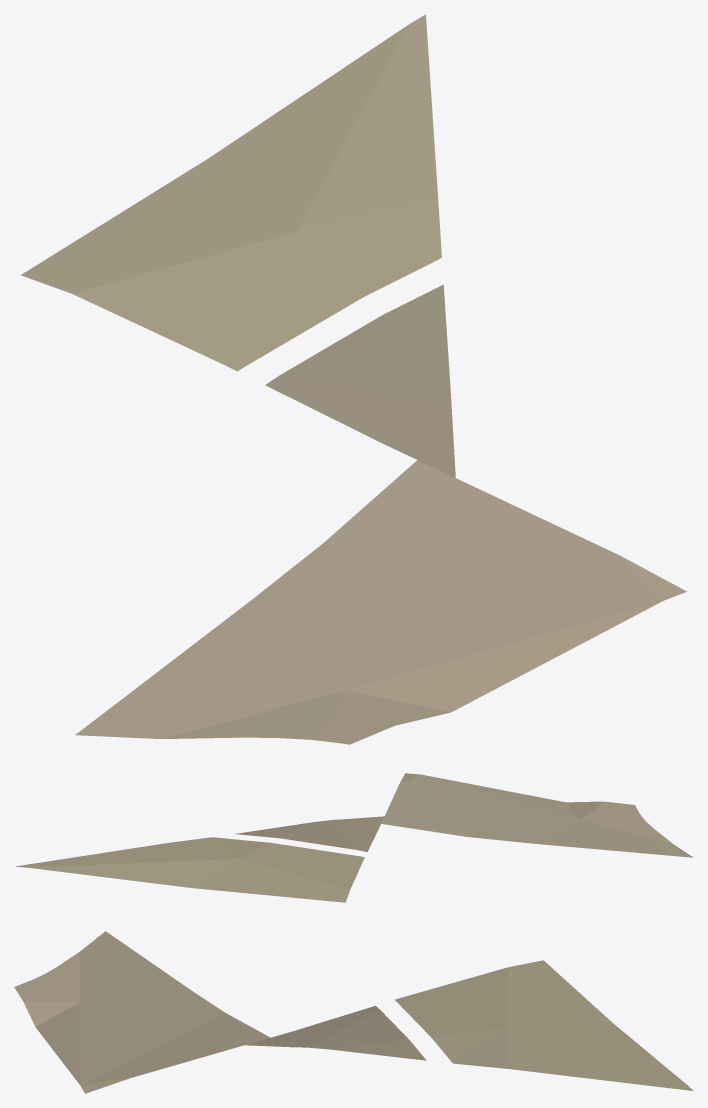
File: farm_12_24_soil.glb
3 renders of one model, top to bottom at view 1: azimuth 30°, elevation 25°; view 2: azimuth 150°, elevation 25°; view 3: azimuth 270°, elevation 25°, orthographic. The views are drawn at different scales.
Parts seen in each view (by area): view 1: geometry_0; view 2: geometry_0; view 3: geometry_0.
Boxes of the visible parts, box(x1,y1,x2,y2) form: geometry_0: box(21, 14, 686, 744); geometry_0: box(15, 773, 693, 902); geometry_0: box(14, 931, 693, 1093).
Bounding box in the file's own units: 215 × 36.84 × 254.
